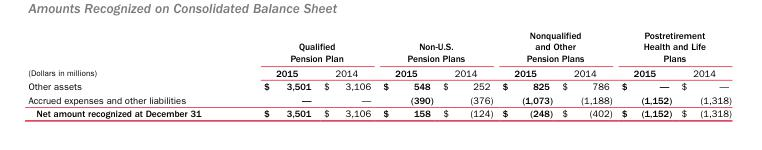table: (27, 28, 730, 118)
table column: (27, 28, 231, 118), (231, 28, 316, 118), (376, 28, 437, 118), (316, 28, 376, 118), (437, 28, 497, 118), (556, 28, 616, 118), (497, 28, 556, 118), (616, 28, 675, 118), (675, 28, 730, 118)
table column header: (27, 28, 730, 79)
table row: (27, 28, 730, 64), (27, 64, 730, 79), (27, 92, 730, 106), (27, 79, 730, 92), (27, 106, 730, 118)
table spanning cell: (27, 28, 231, 79), (231, 28, 376, 64), (376, 28, 497, 64), (497, 28, 616, 64), (616, 28, 730, 64)
